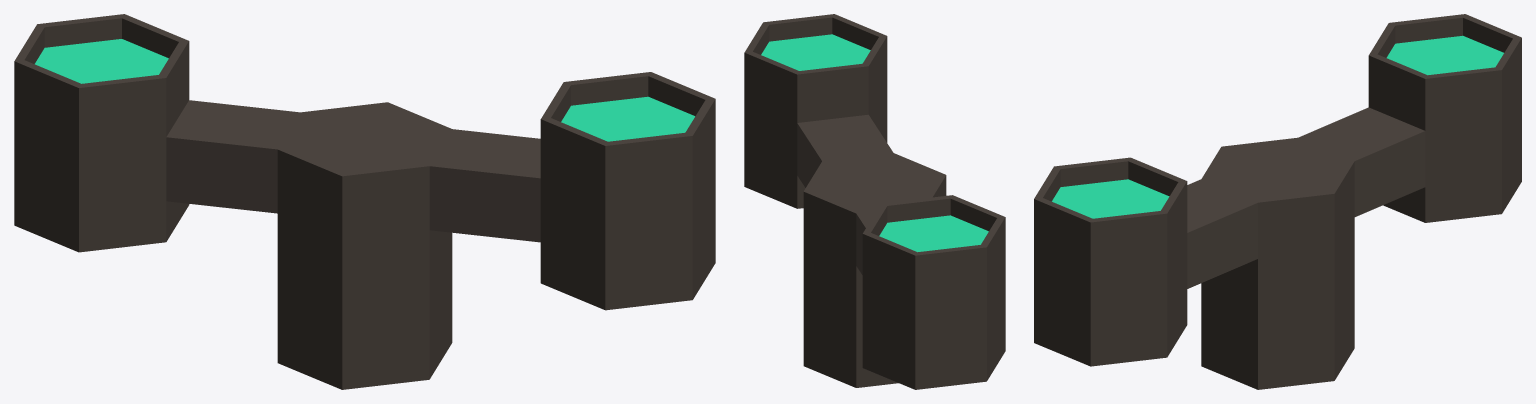
File: CentrifugeSpinny.fbx
The picture shows the model from 3 angles, left to right: view 1: azimuth 30°, elevation 25°; view 2: azimuth 150°, elevation 25°; view 3: azimuth 270°, elevation 25°; orthographic projection. The views are drawn at different scales.
Parts seen in each view (by area): view 1: Cylinder.001; view 2: Cylinder.001; view 3: Cylinder.001.
Part boxes in pixels (box(x1,y1,x2,y2)): Cylinder.001: box(14, 14, 715, 389); Cylinder.001: box(744, 14, 1005, 389); Cylinder.001: box(1034, 14, 1521, 389).
Size of the model in its own units: 124 by 66.42 by 123.
